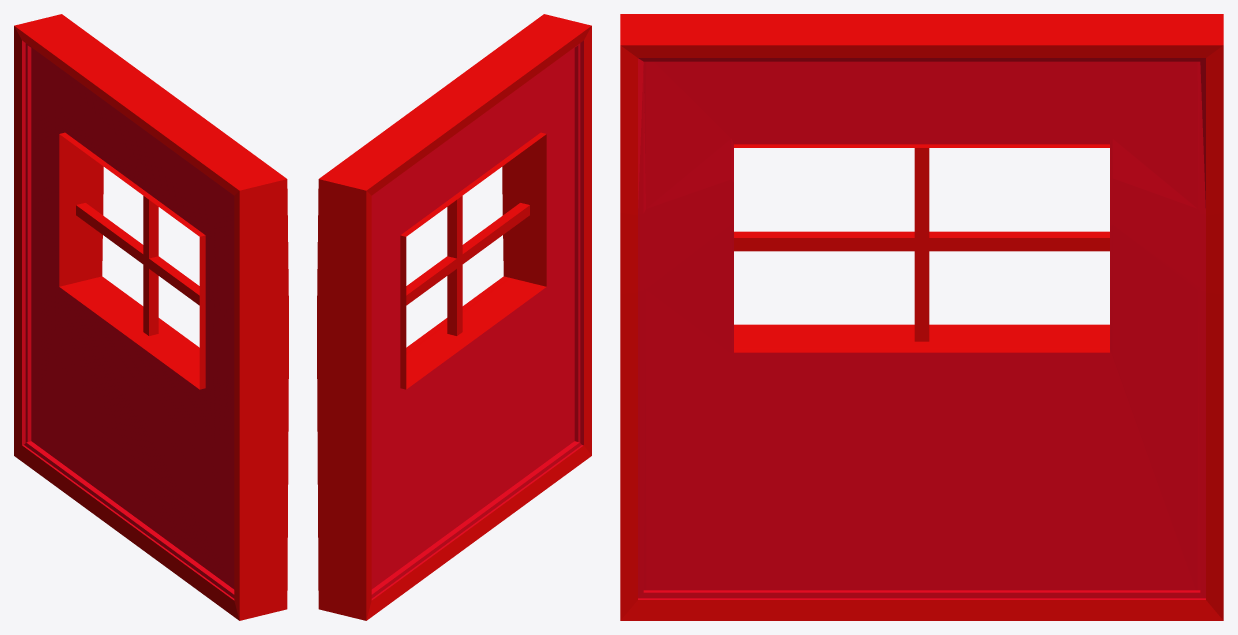
Rendered from basicWindow.obj.
3 renders of one model, left to right at view 1: azimuth 30°, elevation 25°; view 2: azimuth 150°, elevation 25°; view 3: azimuth 270°, elevation 25°, orthographic. The views are drawn at different scales.
Visible parts, largest first — view 1: Cube.002_Cube.025; view 2: Cube.002_Cube.025; view 3: Cube.002_Cube.025.
Part boxes in pixels (left/top/right/bottom): Cube.002_Cube.025: left=14, top=14, right=288, bottom=620; Cube.002_Cube.025: left=317, top=14, right=591, bottom=620; Cube.002_Cube.025: left=620, top=14, right=1223, bottom=620.
Size of the model in its own units: 0.1275 by 1.06 by 1.01.
